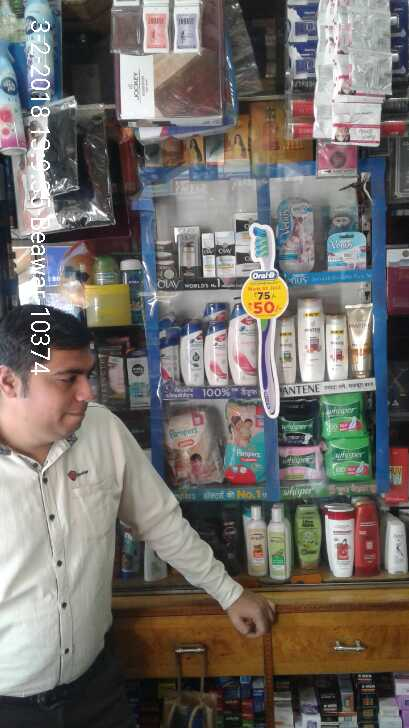ambipureVesus: (1, 36, 23, 158), (26, 1, 52, 101)
venus: (274, 194, 315, 267), (324, 231, 366, 269), (328, 203, 366, 224)
